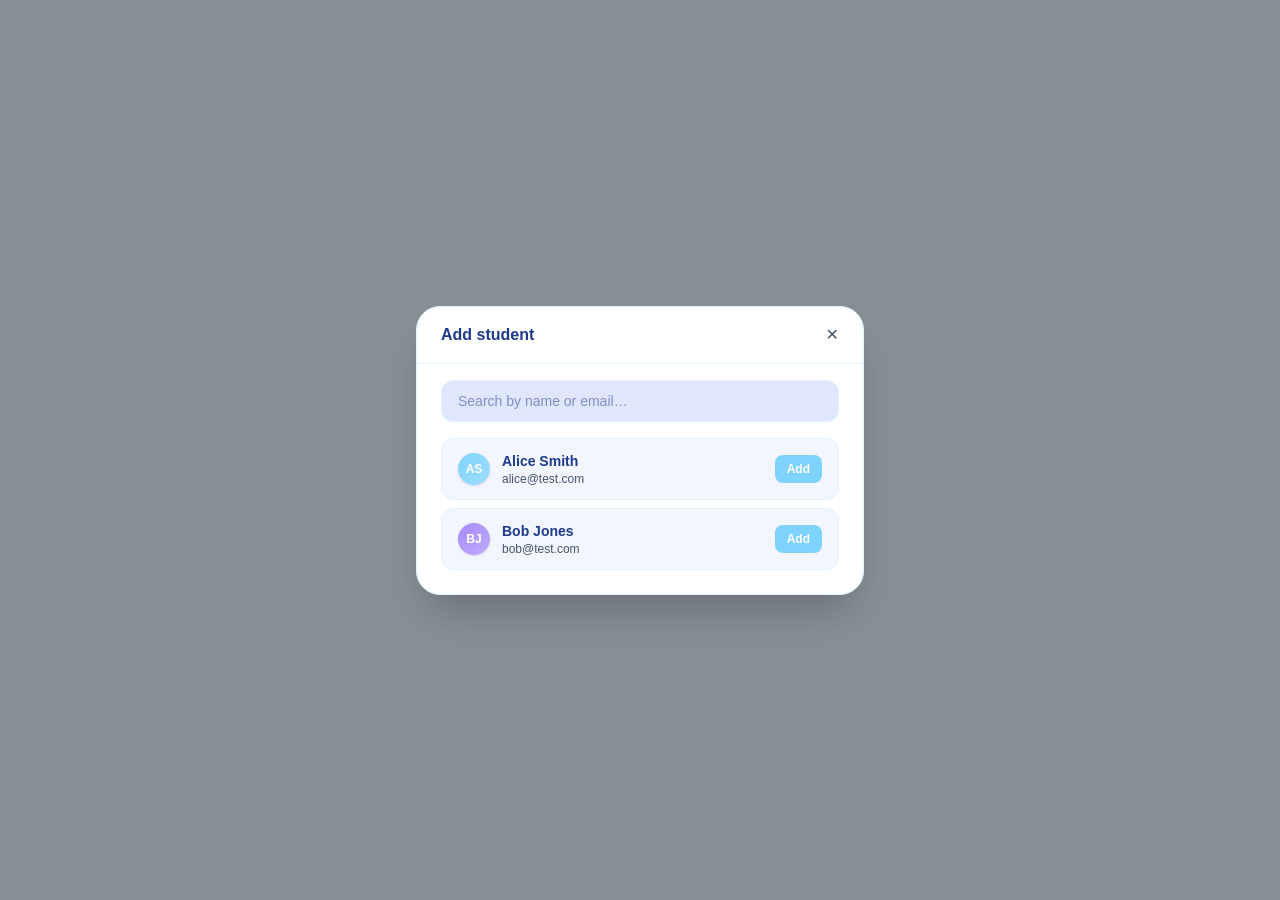
Test: AddStudentModal › shows error when add member fails
Check: the text "alice@test.com" is shown, box [502,470,584,486]
Click the button "Add" in the row of "alice@test.com": (798, 468) [775,454,822,482]
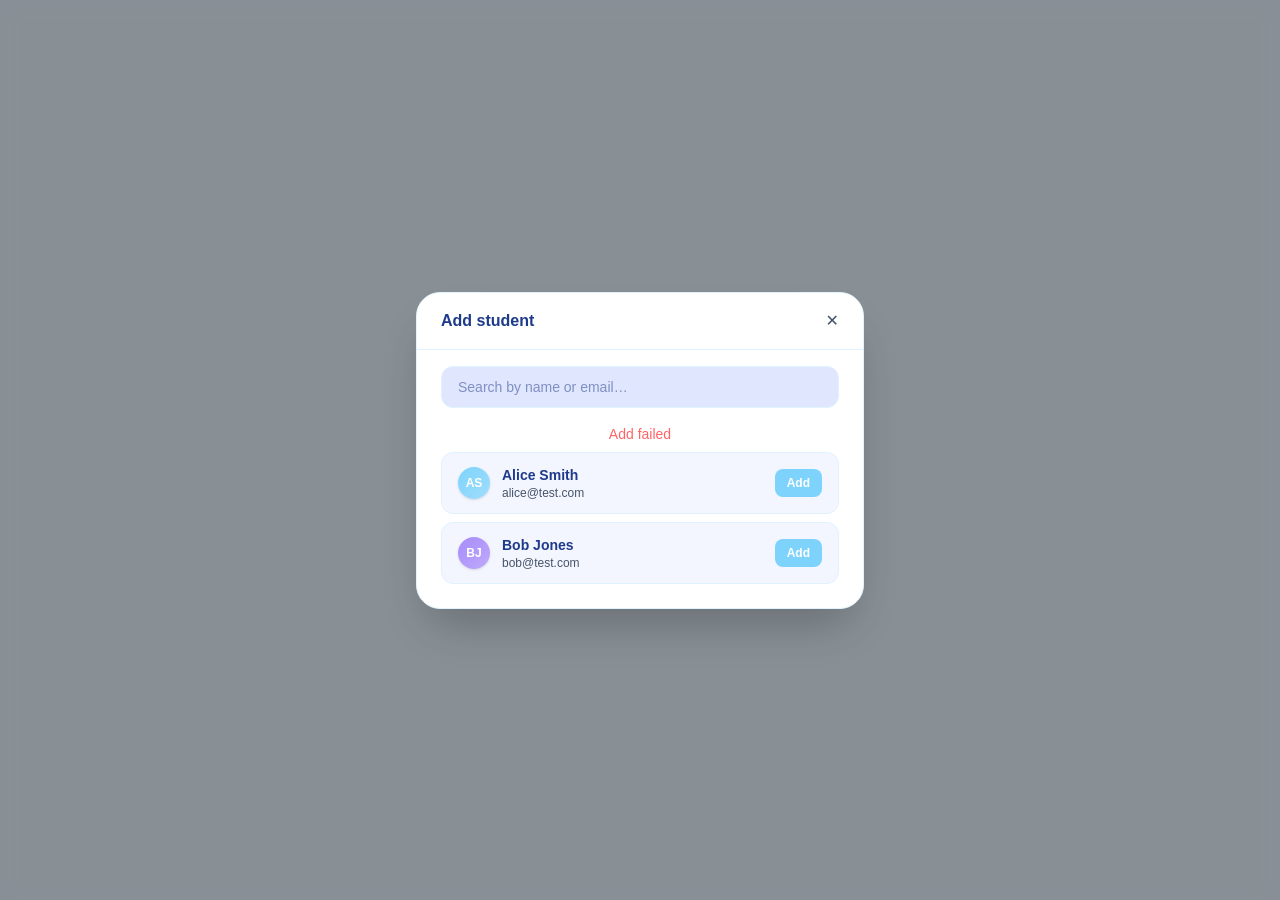
Check: the text "Add failed" is shown, box [609,426,671,442]
